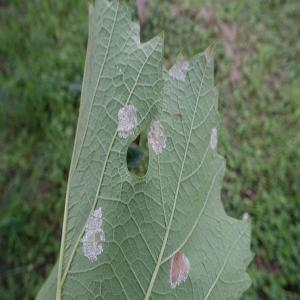Folha: (34, 0, 255, 298)
Fungo: (80, 206, 106, 262), (168, 250, 190, 290), (116, 103, 138, 139), (147, 119, 167, 155), (168, 51, 190, 82), (210, 127, 218, 150)
